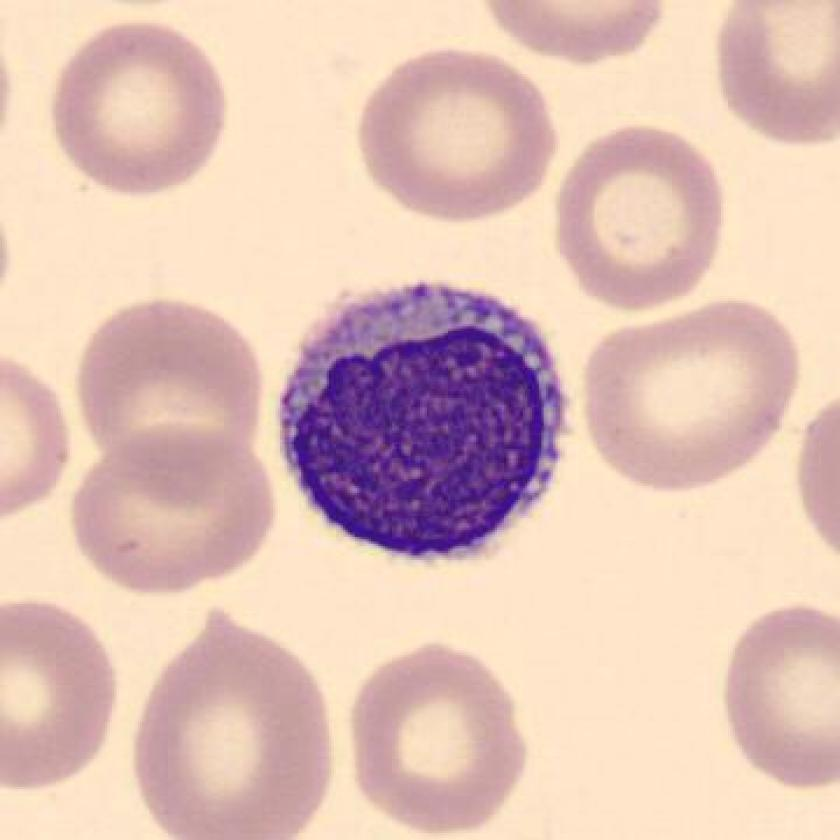lymphocyte: (260, 263, 584, 591)
